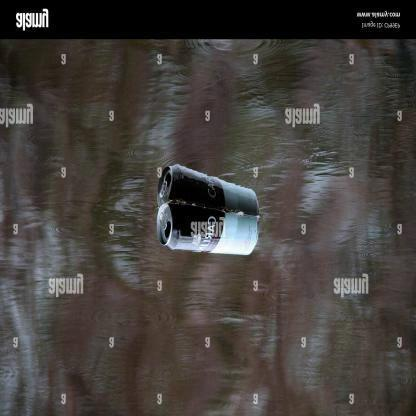Metal: (156, 195, 264, 261)
